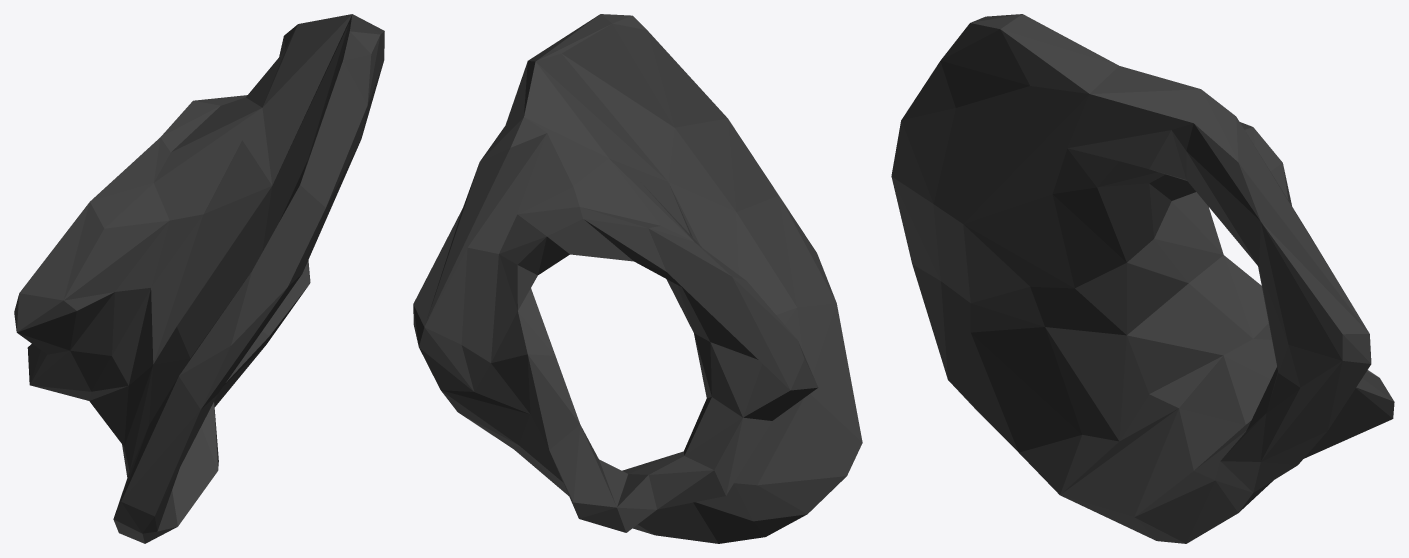
Rendered from entrance_omasum.glb.
3 views of the same model, side by side, from view 1: azimuth 30°, elevation 25°; view 2: azimuth 150°, elevation 25°; view 3: azimuth 270°, elevation 25° (orthographic). The views are drawn at different scales.
Visible parts, largest first — view 1: entrance_omasum; view 2: entrance_omasum; view 3: entrance_omasum.
Boxes of the visible parts, x1,y1,x2,y2 form: entrance_omasum: [14, 14, 384, 543]; entrance_omasum: [413, 14, 862, 543]; entrance_omasum: [891, 14, 1394, 543].
Size of the model in its own units: 0.197 by 0.2563 by 0.1962.
1 material, 1 textured.
